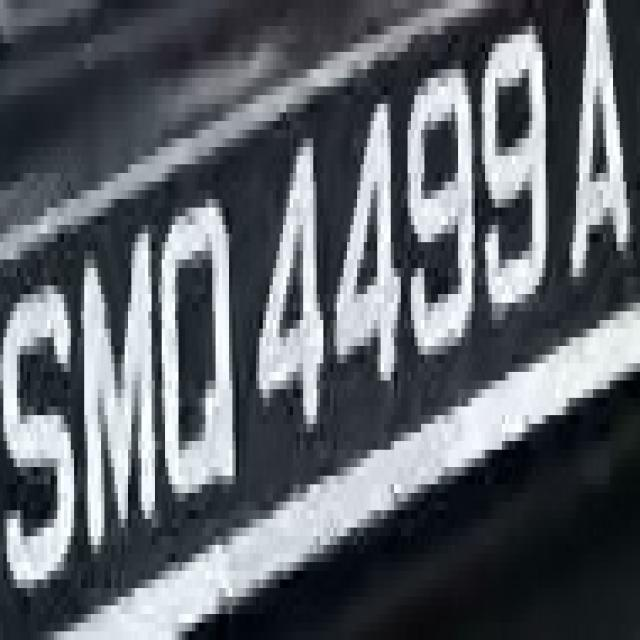4: (239, 104, 330, 458), (313, 78, 408, 415)
9: (465, 9, 552, 346), (398, 78, 485, 372)
A: (559, 18, 637, 312)
M: (77, 208, 162, 562)
Q: (155, 147, 239, 528)
S: (3, 233, 73, 640)
